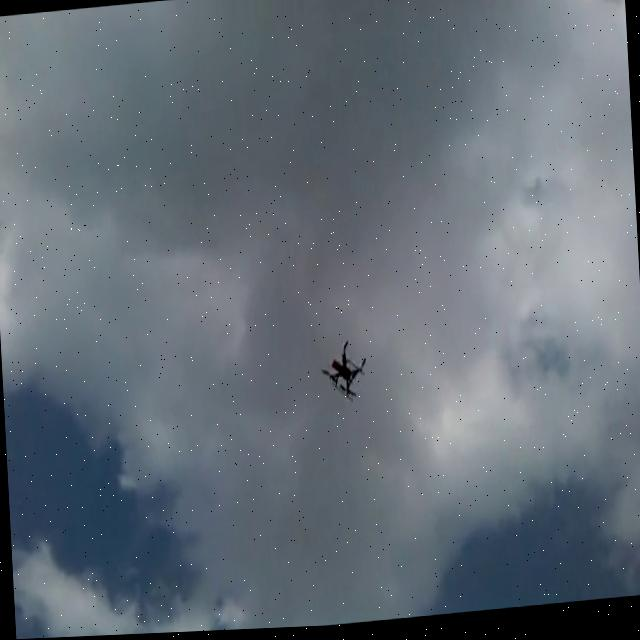drone: (317, 335, 372, 407)
